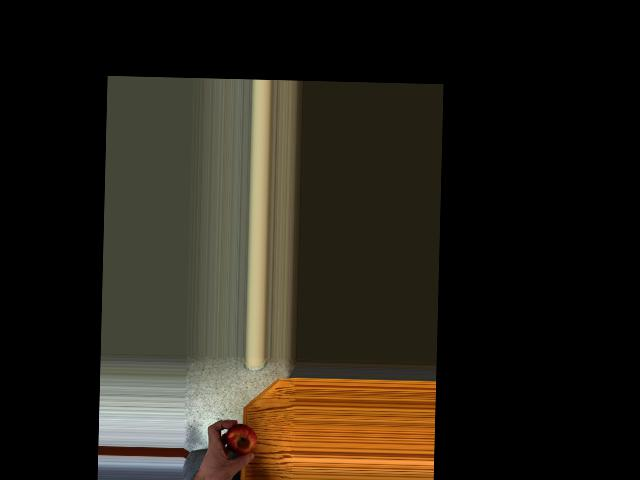apple: (225, 423, 257, 461)
